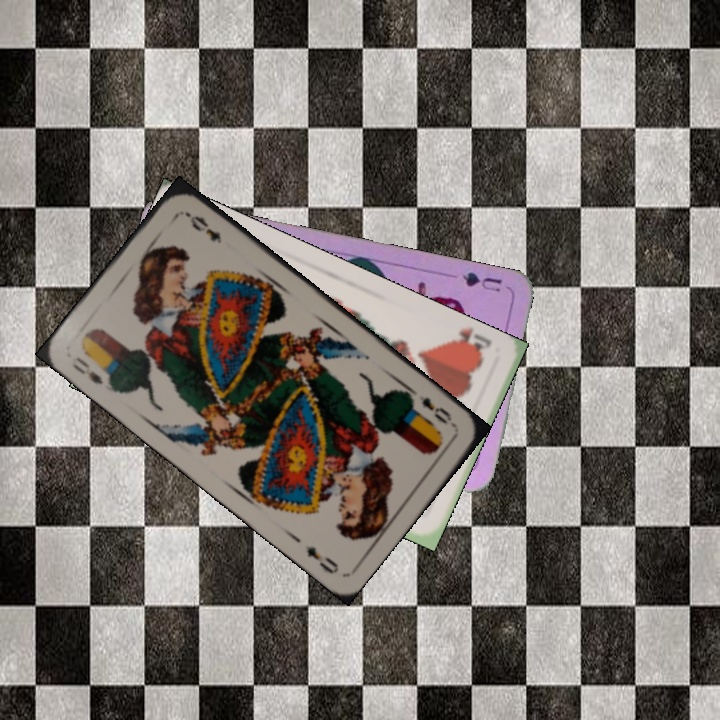EO: (415, 391, 458, 430), (67, 353, 106, 387)
GU: (458, 268, 505, 295)
HO: (444, 324, 494, 361)
